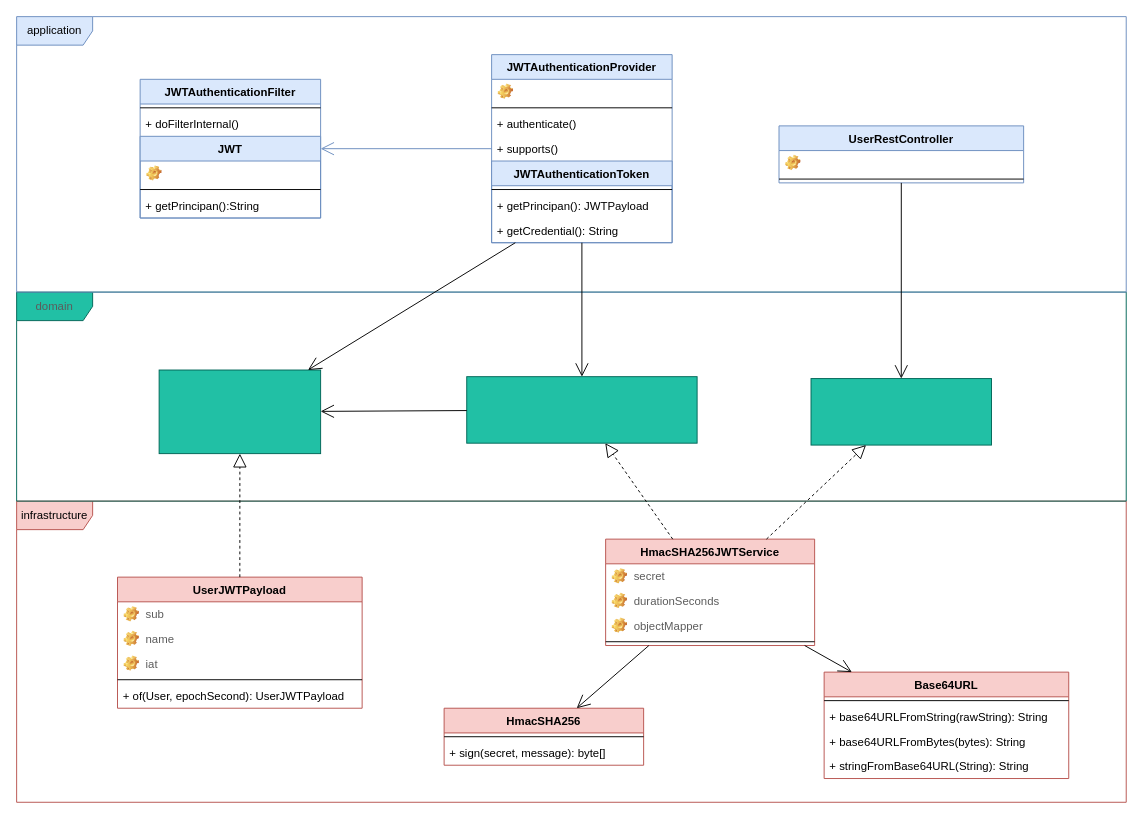
Image size: 1143x819. Some labels were removed from this diagram. Here are the shapes that lost their labels. From the top down, the centre of each, then its label:
At (x=581, y=91): "jwtDeserializer".
At (x=230, y=173): "token".
At (x=901, y=162): "jwtSerializer".
At (x=239, y=411): "<<Interface>> JWTPayload getUserId(): long isExpired(): boolean".
At (x=581, y=409): "<<Interface>> JWTDeserializer jwtPayloadFromJWT(String): JWTPayload".
At (x=901, y=411): "<<Interface>> JWTSerializer +jwtFromUser(User): String".
